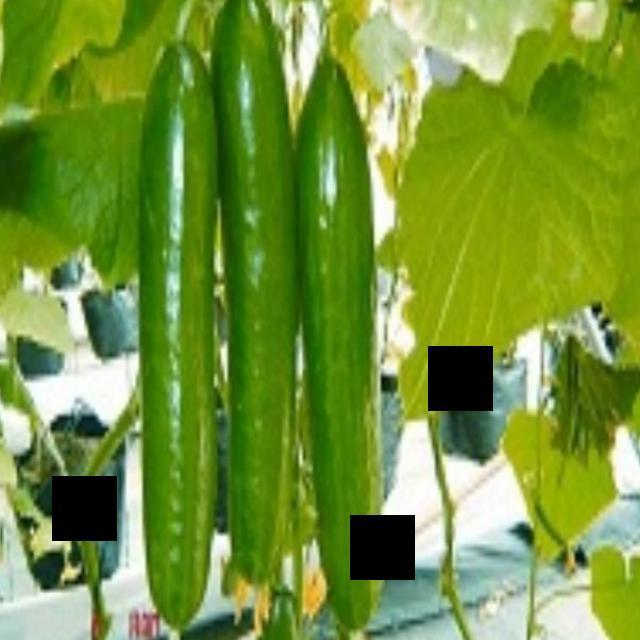cucumber: (215, 0, 298, 582), (299, 49, 379, 630), (140, 33, 214, 618)
